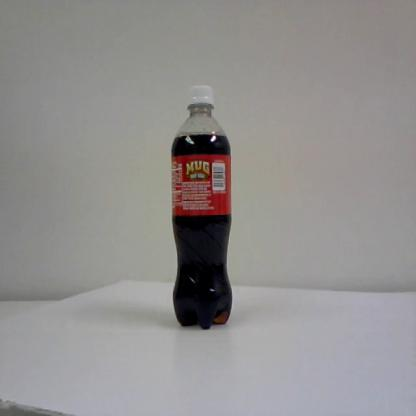bottle: (169, 82, 234, 332)
